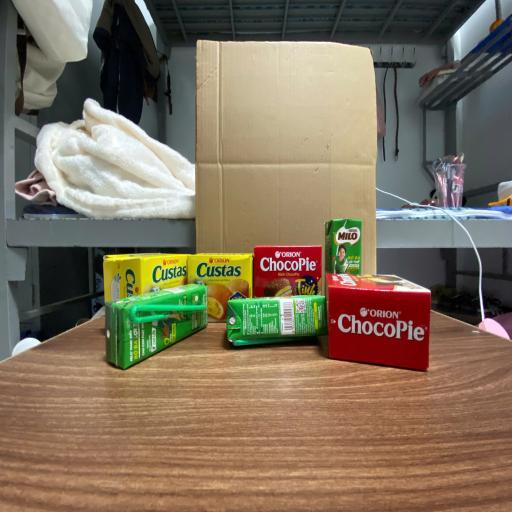chocopie: (327, 273, 431, 370), (254, 245, 322, 297)
custas: (187, 253, 253, 322), (104, 253, 188, 302)
milo: (105, 283, 207, 370), (226, 295, 327, 347), (325, 218, 362, 296)
